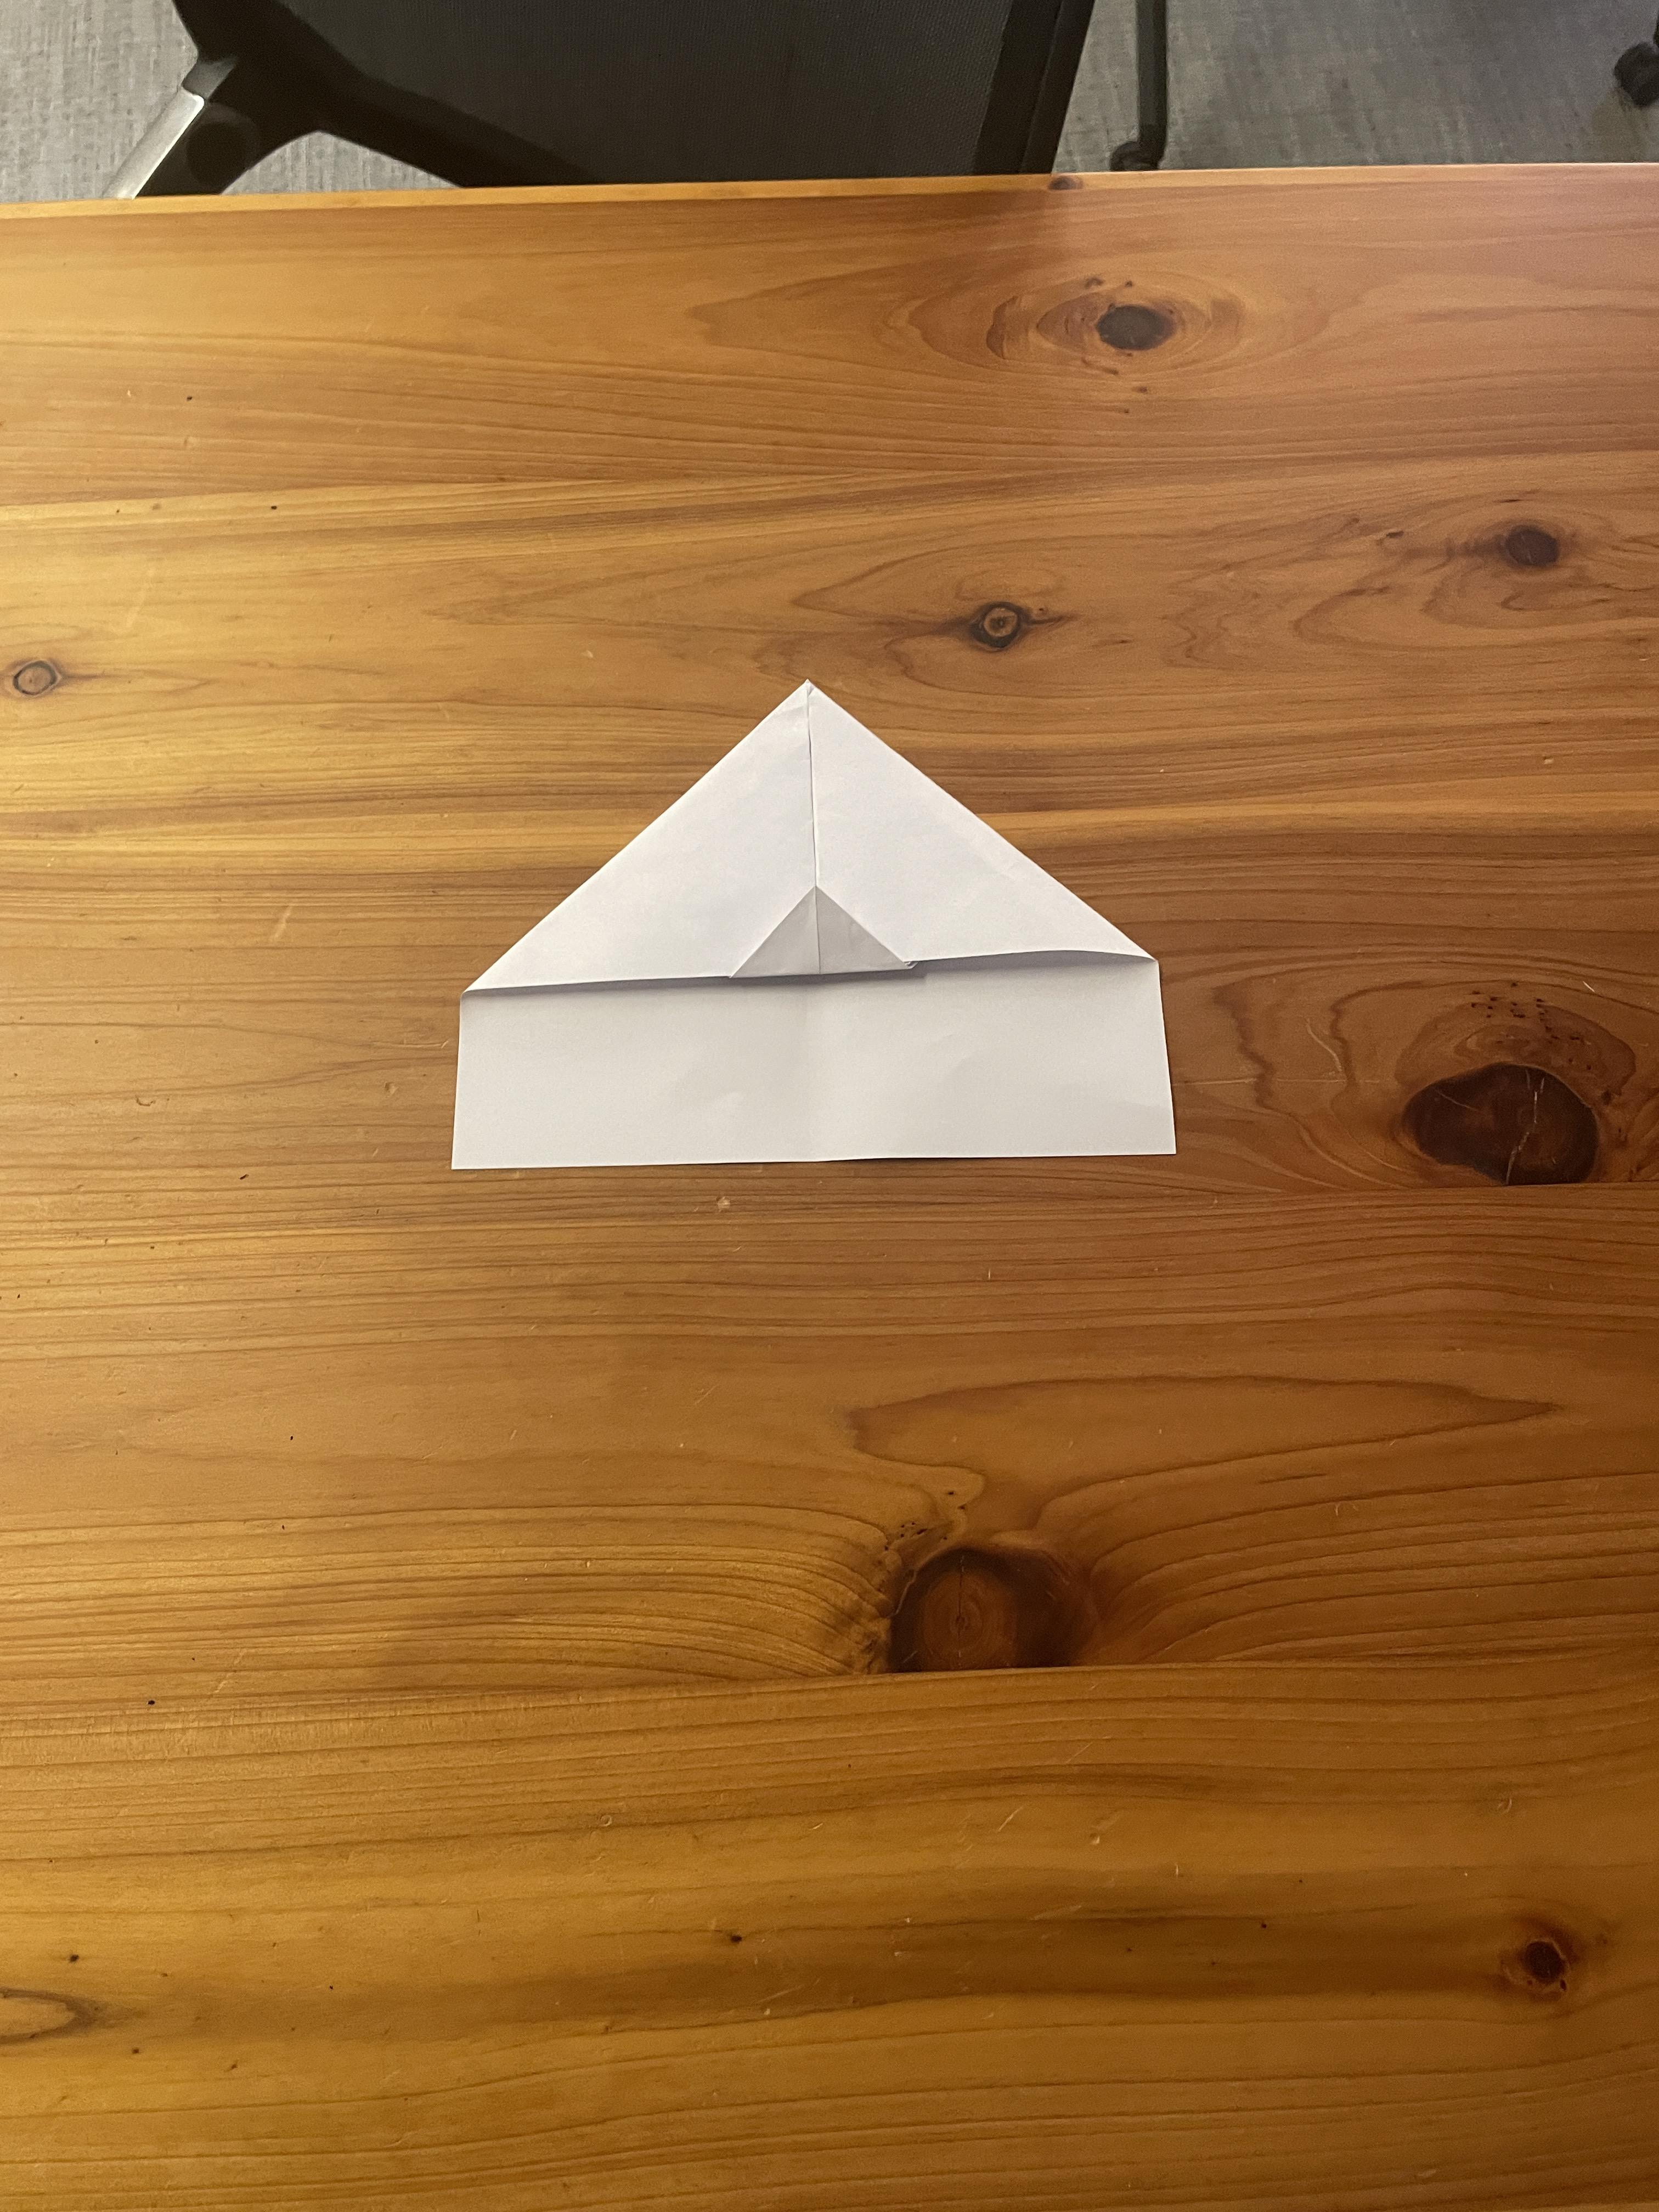shape_2: (258, 451, 1364, 1521)
